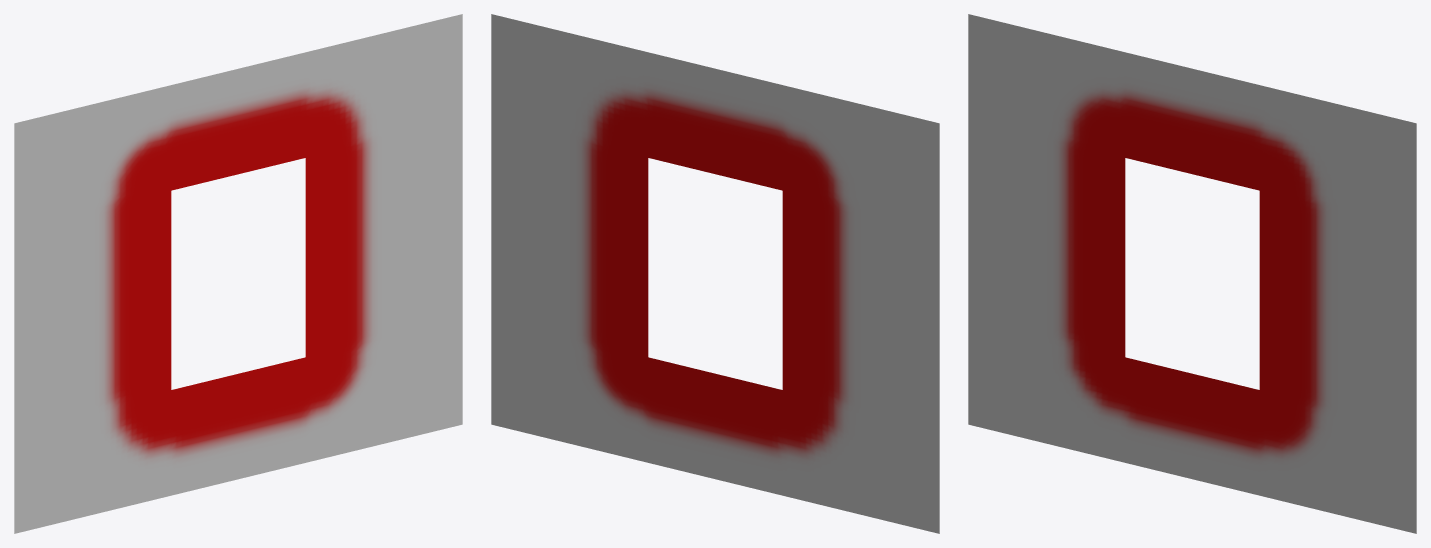
Rendered from wall_window_400x350_05.fbx.
3 views of the same model, side by side, from view 1: azimuth 30°, elevation 25°; view 2: azimuth 150°, elevation 25°; view 3: azimuth 330°, elevation 25° (orthographic).
Parts seen in each view (by area): view 1: wall_window_400x350_05; view 2: wall_window_400x350_05; view 3: wall_window_400x350_05.
Part boxes in pixels (x1=…): wall_window_400x350_05: x1=14, y1=14, x2=462, y2=533; wall_window_400x350_05: x1=491, y1=14, x2=939, y2=533; wall_window_400x350_05: x1=968, y1=14, x2=1416, y2=533.
Size of the model in its own units: 4 by 3.5 by 0.
